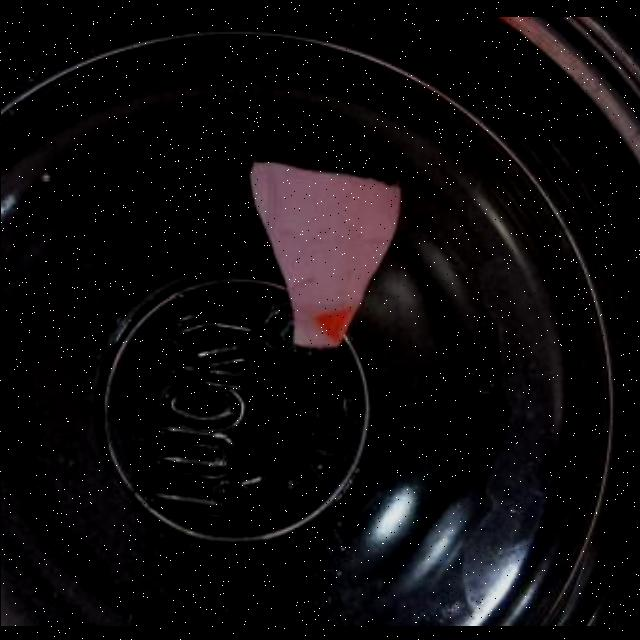Fragment: (246, 154, 402, 348)
